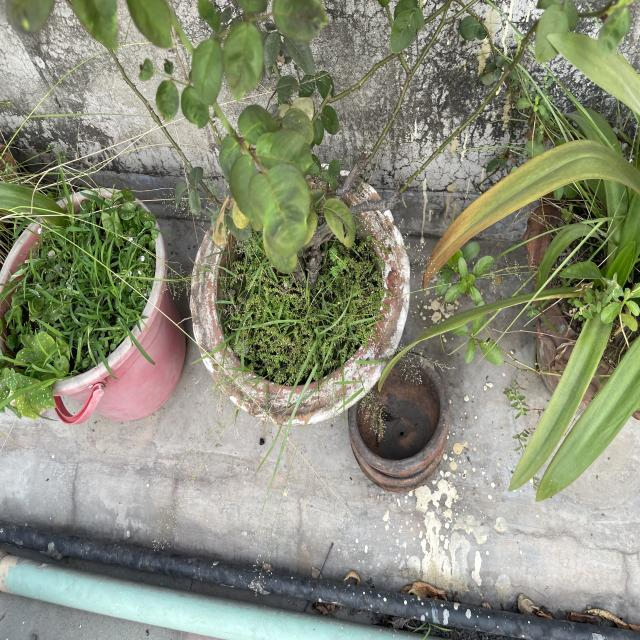Breeding Place: (190, 173, 410, 415), (1, 202, 188, 413), (527, 201, 640, 424), (348, 351, 452, 487)
